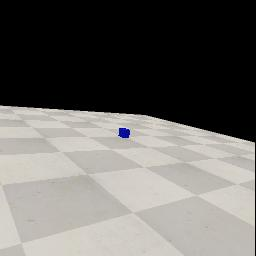box: (118, 128, 130, 138)
